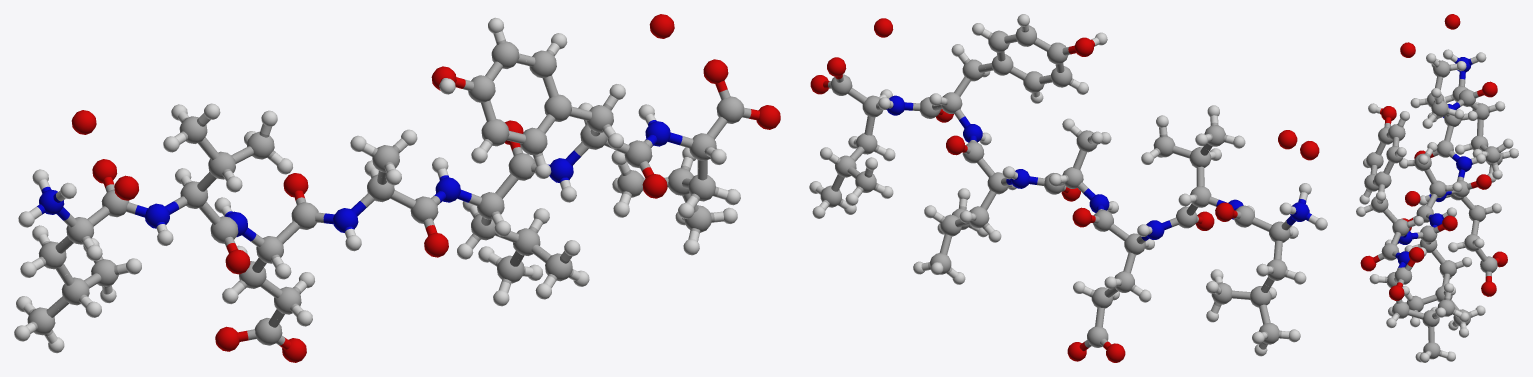
Rendered from fullprot.gltf.
The picture shows the model from 3 angles, left to right: view 1: azimuth 30°, elevation 25°; view 2: azimuth 150°, elevation 25°; view 3: azimuth 270°, elevation 25°; orthographic projection. The views are drawn at different scales.
Visible parts, largest first — view 1: vmd_mol0_rep4; view 2: vmd_mol0_rep4; view 3: vmd_mol0_rep4.
Boxes of the visible parts, x1,y1,x2,y2 form: vmd_mol0_rep4: (14, 14, 780, 362); vmd_mol0_rep4: (809, 14, 1327, 362); vmd_mol0_rep4: (1356, 14, 1518, 362).
Size of the model in its own units: 3.16 by 1.53 by 1.
